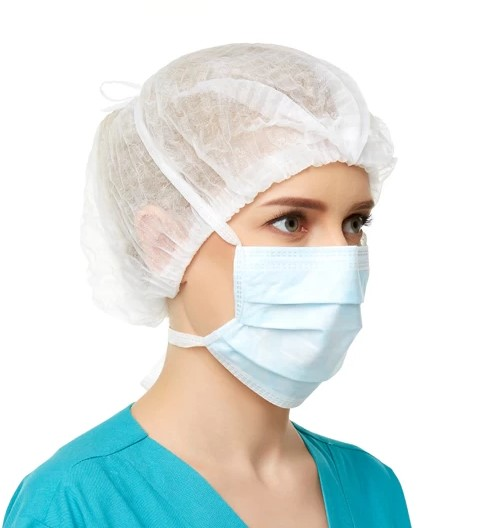with_mask_and_cap: (137, 49, 373, 410)
